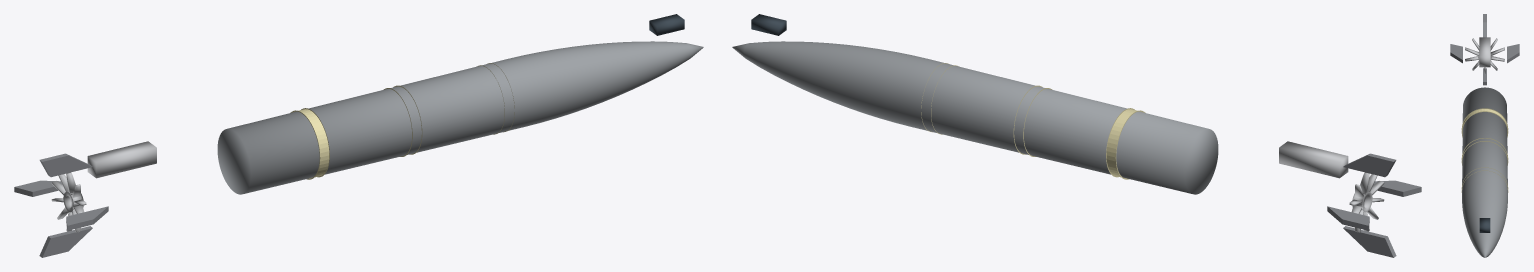
The model's file is US_TORP_Mk48_ADCAP_LOD0.fbx.
The picture shows the model from 3 angles, left to right: view 1: azimuth 30°, elevation 25°; view 2: azimuth 150°, elevation 25°; view 3: azimuth 270°, elevation 25°; orthographic projection. The views are drawn at different scales.
Parts seen in each view (by area): view 1: WPN_US_TORP_Mk48_ADCAP_LOD0_Body, WPN_US_TORP_Mk48_ADCAP_LOD0_Fins, WPN_US_TORP_Mk48_ADCAP_LOD0_Detail, WPN_US_TORP_Mk48_ADCAP_LOD0_Marking, WPN_US_TORP_Mk48_ADCAP_LOD0_Propulsor, WPN_US_TORP_Mk48_ADCAP_LOD0_Seeker; view 2: WPN_US_TORP_Mk48_ADCAP_LOD0_Body, WPN_US_TORP_Mk48_ADCAP_LOD0_Fins, WPN_US_TORP_Mk48_ADCAP_LOD0_Detail, WPN_US_TORP_Mk48_ADCAP_LOD0_Marking, WPN_US_TORP_Mk48_ADCAP_LOD0_Propulsor, WPN_US_TORP_Mk48_ADCAP_LOD0_Seeker; view 3: WPN_US_TORP_Mk48_ADCAP_LOD0_Body, WPN_US_TORP_Mk48_ADCAP_LOD0_Fins, WPN_US_TORP_Mk48_ADCAP_LOD0_Marking, WPN_US_TORP_Mk48_ADCAP_LOD0_Propulsor, WPN_US_TORP_Mk48_ADCAP_LOD0_Detail, WPN_US_TORP_Mk48_ADCAP_LOD0_Seeker.
Part boxes in pixels (x1=…): WPN_US_TORP_Mk48_ADCAP_LOD0_Body: x1=217, y1=41, x2=703, y2=194; WPN_US_TORP_Mk48_ADCAP_LOD0_Fins: x1=14, y1=153, x2=108, y2=257; WPN_US_TORP_Mk48_ADCAP_LOD0_Detail: x1=87, y1=141, x2=156, y2=178; WPN_US_TORP_Mk48_ADCAP_LOD0_Marking: x1=290, y1=63, x2=514, y2=179; WPN_US_TORP_Mk48_ADCAP_LOD0_Propulsor: x1=51, y1=172, x2=86, y2=232; WPN_US_TORP_Mk48_ADCAP_LOD0_Seeker: x1=649, y1=14, x2=684, y2=35; WPN_US_TORP_Mk48_ADCAP_LOD0_Body: x1=732, y1=41, x2=1218, y2=194; WPN_US_TORP_Mk48_ADCAP_LOD0_Fins: x1=1327, y1=153, x2=1421, y2=257; WPN_US_TORP_Mk48_ADCAP_LOD0_Detail: x1=1279, y1=141, x2=1348, y2=178; WPN_US_TORP_Mk48_ADCAP_LOD0_Marking: x1=921, y1=63, x2=1145, y2=179; WPN_US_TORP_Mk48_ADCAP_LOD0_Propulsor: x1=1349, y1=172, x2=1384, y2=232; WPN_US_TORP_Mk48_ADCAP_LOD0_Seeker: x1=751, y1=14, x2=786, y2=35; WPN_US_TORP_Mk48_ADCAP_LOD0_Body: x1=1462, y1=87, x2=1507, y2=257; WPN_US_TORP_Mk48_ADCAP_LOD0_Fins: x1=1450, y1=14, x2=1519, y2=85; WPN_US_TORP_Mk48_ADCAP_LOD0_Marking: x1=1461, y1=108, x2=1508, y2=192; WPN_US_TORP_Mk48_ADCAP_LOD0_Propulsor: x1=1465, y1=38, x2=1504, y2=73; WPN_US_TORP_Mk48_ADCAP_LOD0_Detail: x1=1479, y1=37, x2=1490, y2=67; WPN_US_TORP_Mk48_ADCAP_LOD0_Seeker: x1=1479, y1=218, x2=1490, y2=232.
Bounding box in the file's own units: 5.81 × 0.8049 × 0.8049.
